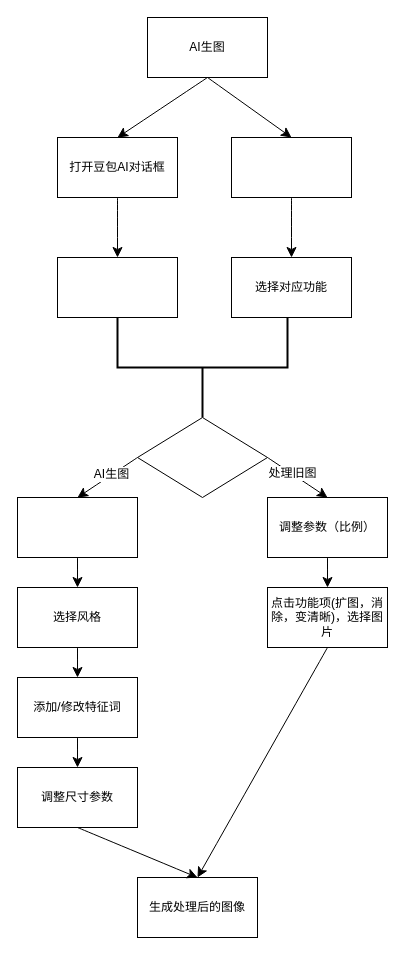
This 405x955 diagram has some shape labels left out. The box of each missing label's shape, as (x1, y1, x2, y2) in pixels:
AI生图还是处理旧图: (136, 416, 268, 498)
下方聊天框滑动选择对应功能: (56, 256, 178, 318)
添加参考图/选择模板(可选): (16, 496, 138, 558)
点击创作项: (230, 136, 352, 198)
